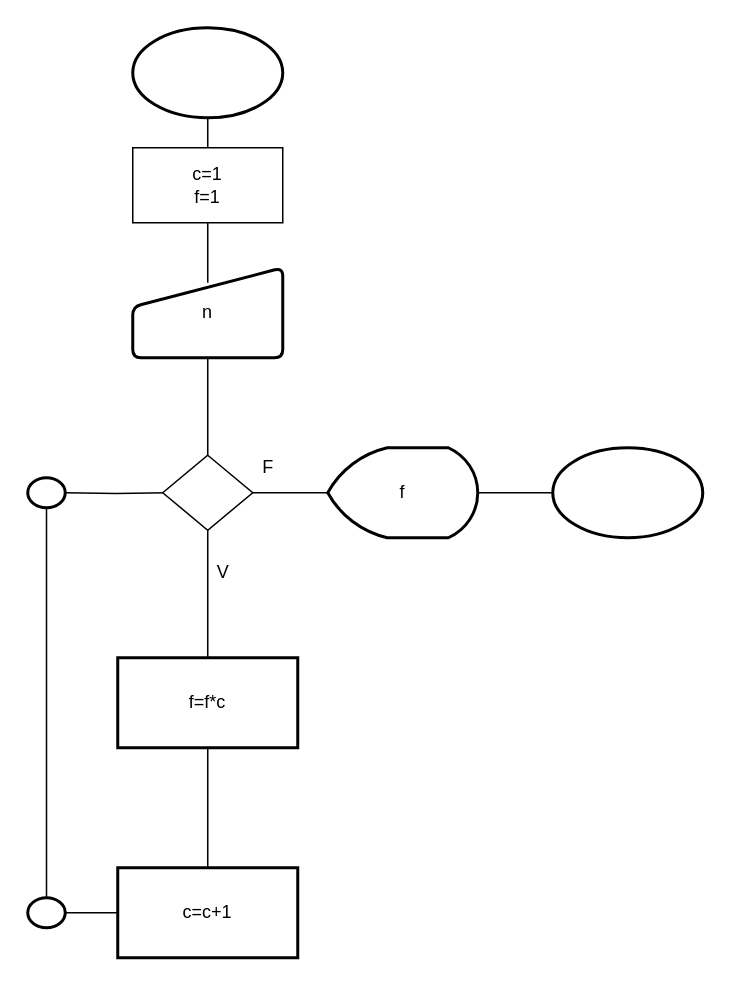
This 729x984 diagram has some shape labels left out. Each missing label, with the centre of its shape:
"c<=n" belongs at point (207, 492).
"Fim" belongs at point (627, 492).
"Inicio" belongs at point (207, 72).
